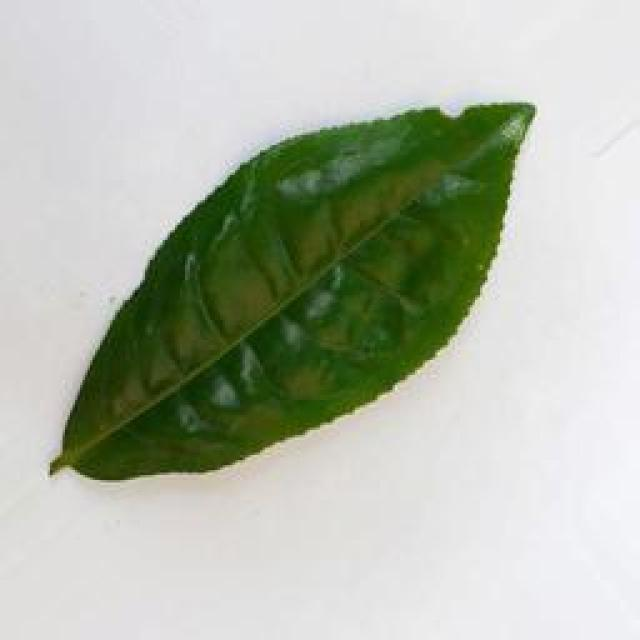Healthy: (43, 102, 539, 486)
